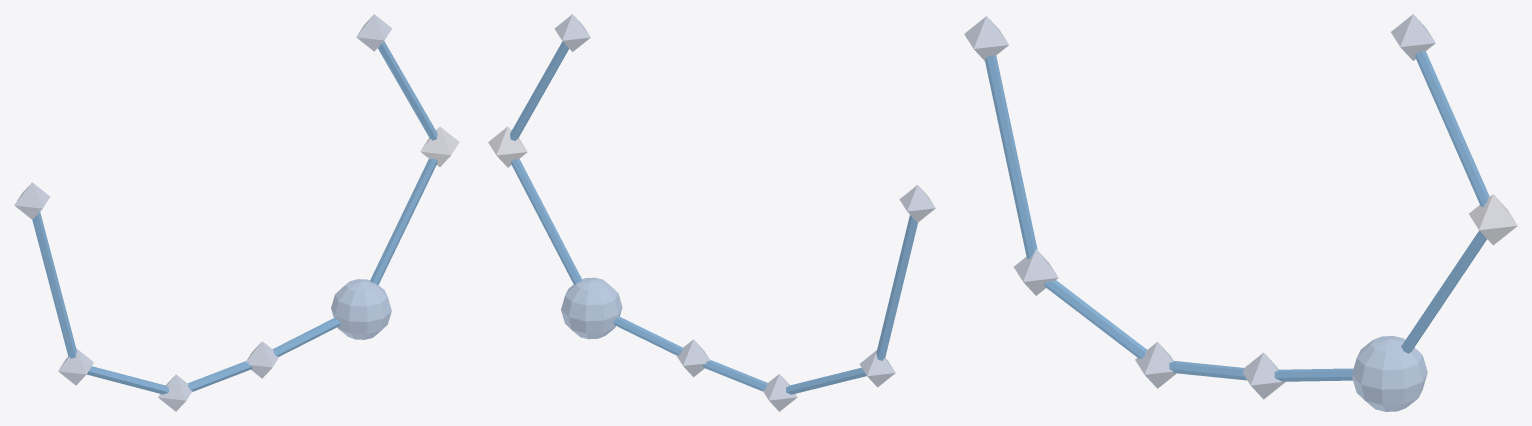
Rendered from constellation-crb.glb.
The picture shows the model from 3 angles, left to right: view 1: azimuth 30°, elevation 25°; view 2: azimuth 150°, elevation 25°; view 3: azimuth 330°, elevation 25°; orthographic projection. The views are drawn at different scales.
Size of the model in its own units: 0.8363 by 0.6237 by 0.0951.
